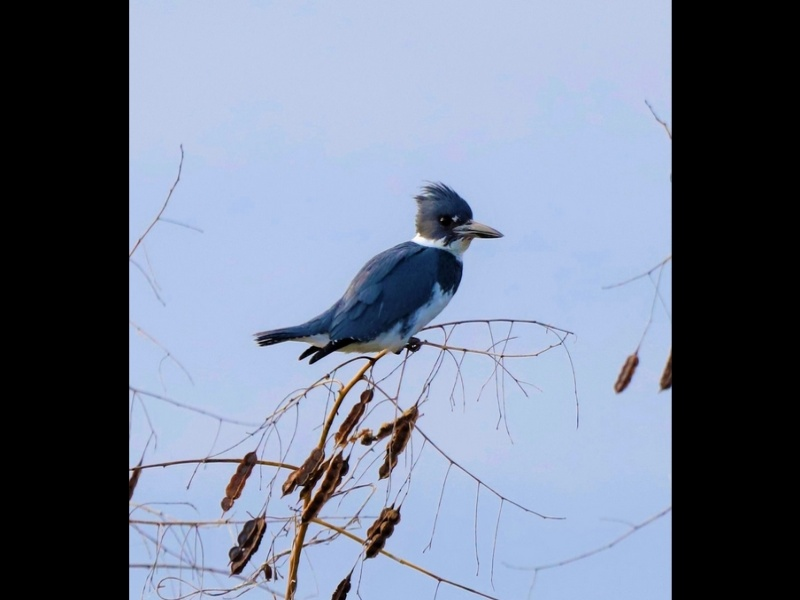kingfisher: (252, 180, 505, 364)
